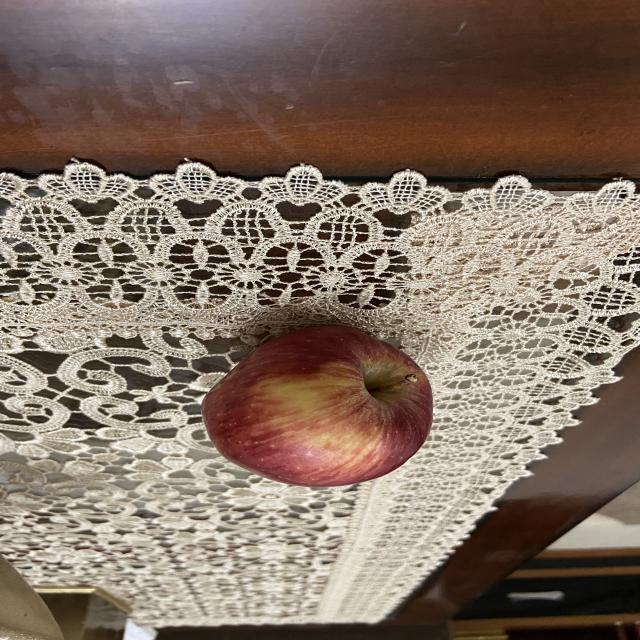apple: (204, 321, 438, 492)
